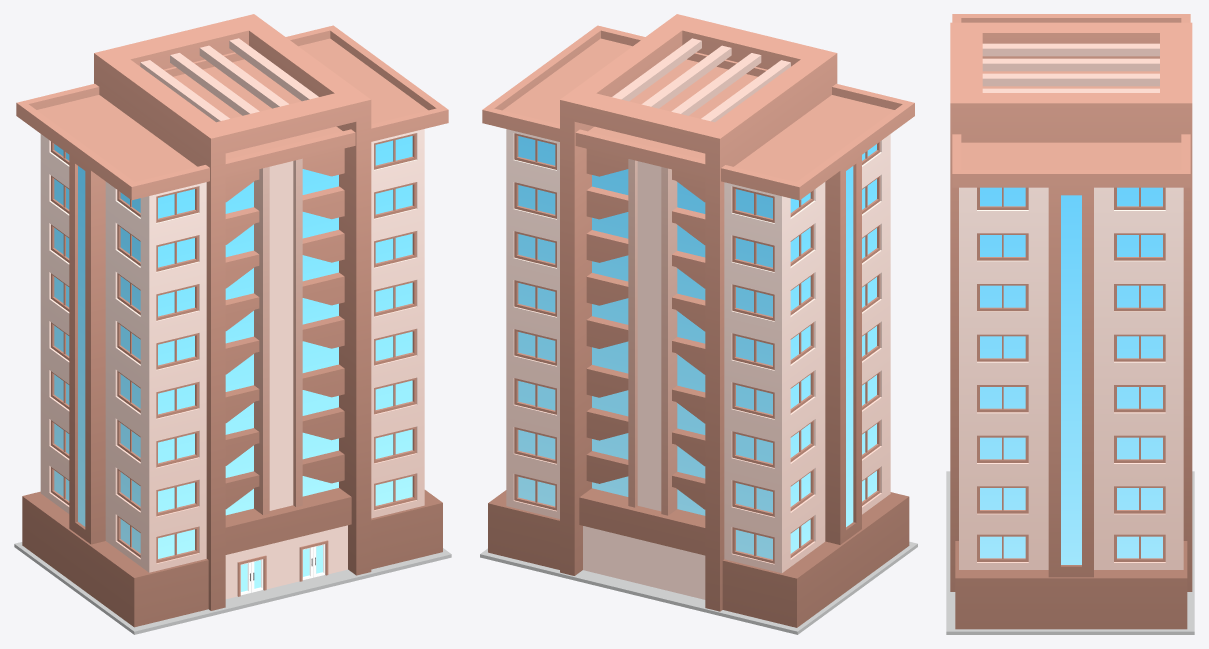
File: Building_Living_52.glb
The picture shows the model from 3 angles, left to right: view 1: azimuth 30°, elevation 25°; view 2: azimuth 150°, elevation 25°; view 3: azimuth 270°, elevation 25°; orthographic projection. The views are drawn at different scales.
Parts seen in each view (by area): view 1: Building_Living_52; view 2: Building_Living_52; view 3: Building_Living_52.
Part boxes in pixels (bbox=[...]): Building_Living_52: bbox=[14, 14, 451, 634]; Building_Living_52: bbox=[480, 14, 917, 634]; Building_Living_52: bbox=[946, 14, 1194, 634].
Size of the model in its own units: 22.5 by 32.23 by 14.75.
1 material, 1 textured.
